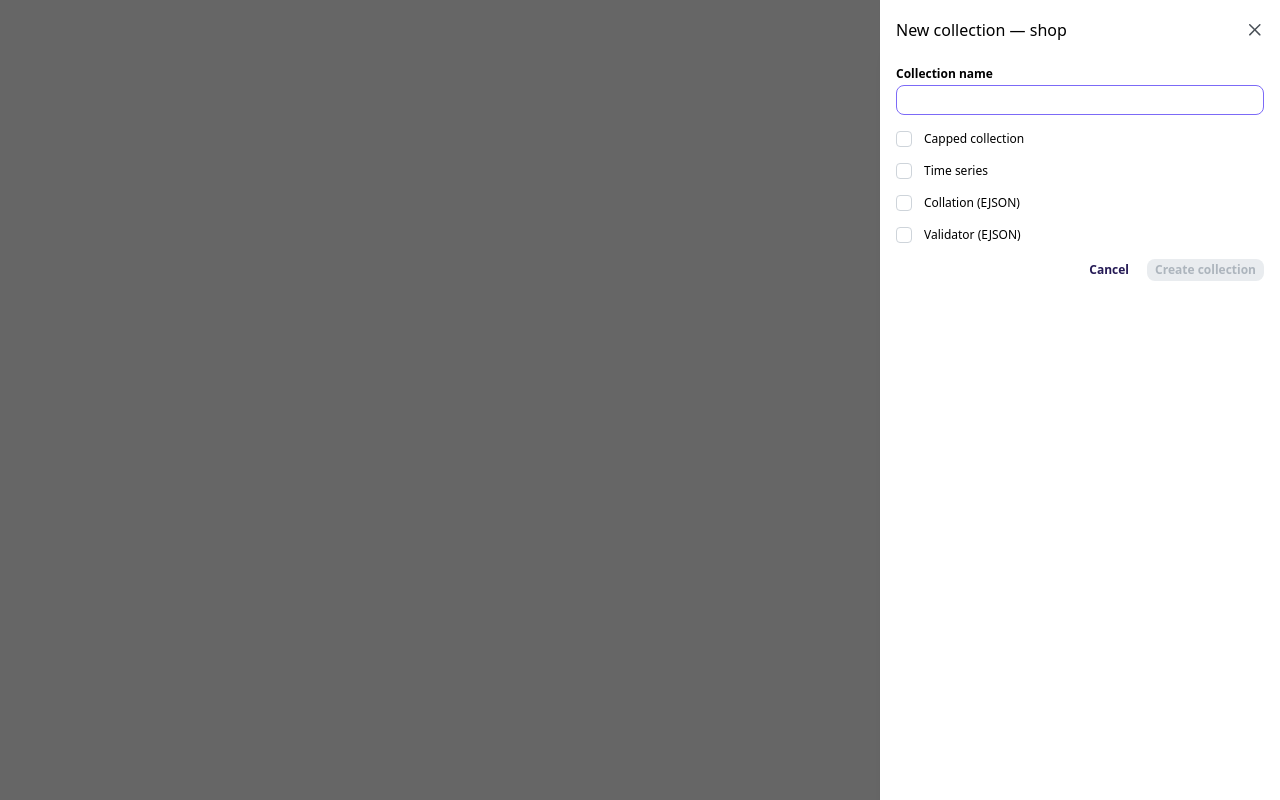
Test: CreateCollectionDrawer — unsaved-changes guard (X15 T4) › Escape with a dirty field prompts, and Cancel leaves the typed text intact
Type "orders" into the field labelled "Collection name" at (1080, 100), box [896, 85, 1264, 115]
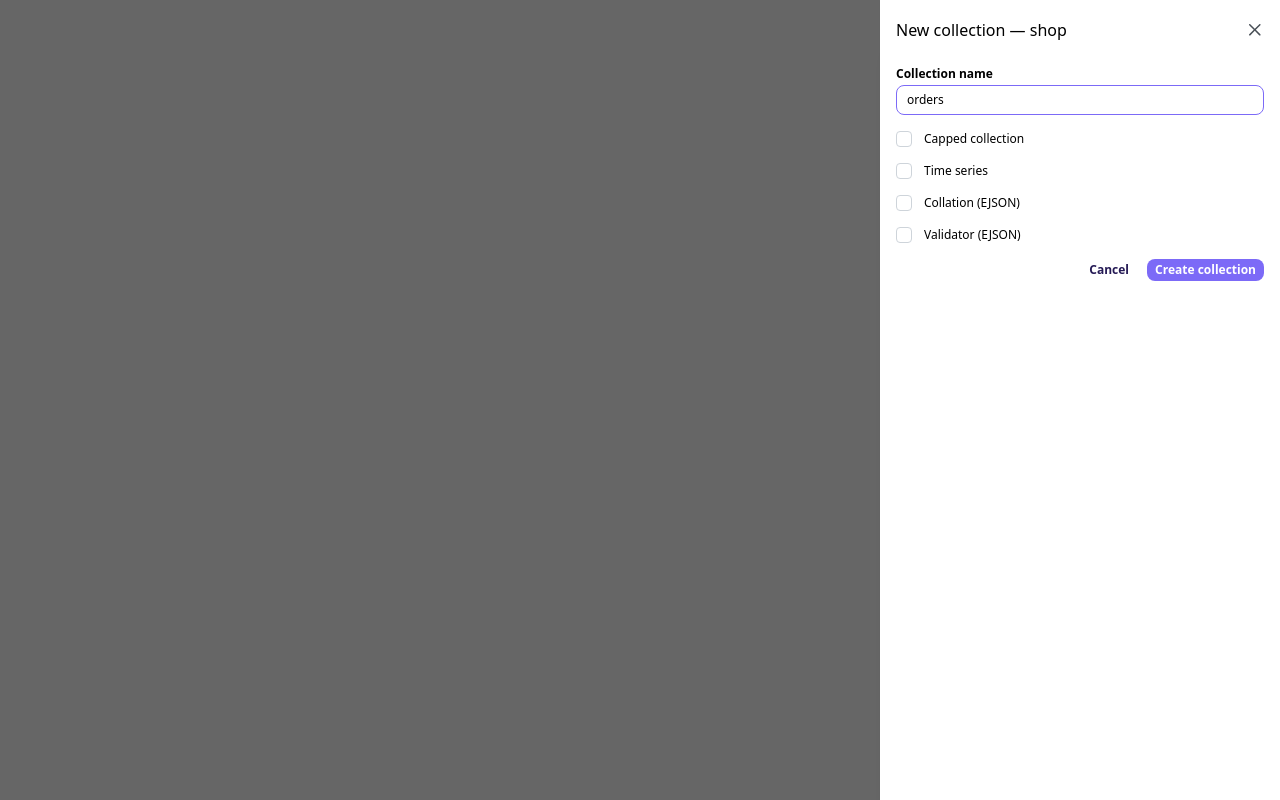
Press Escape
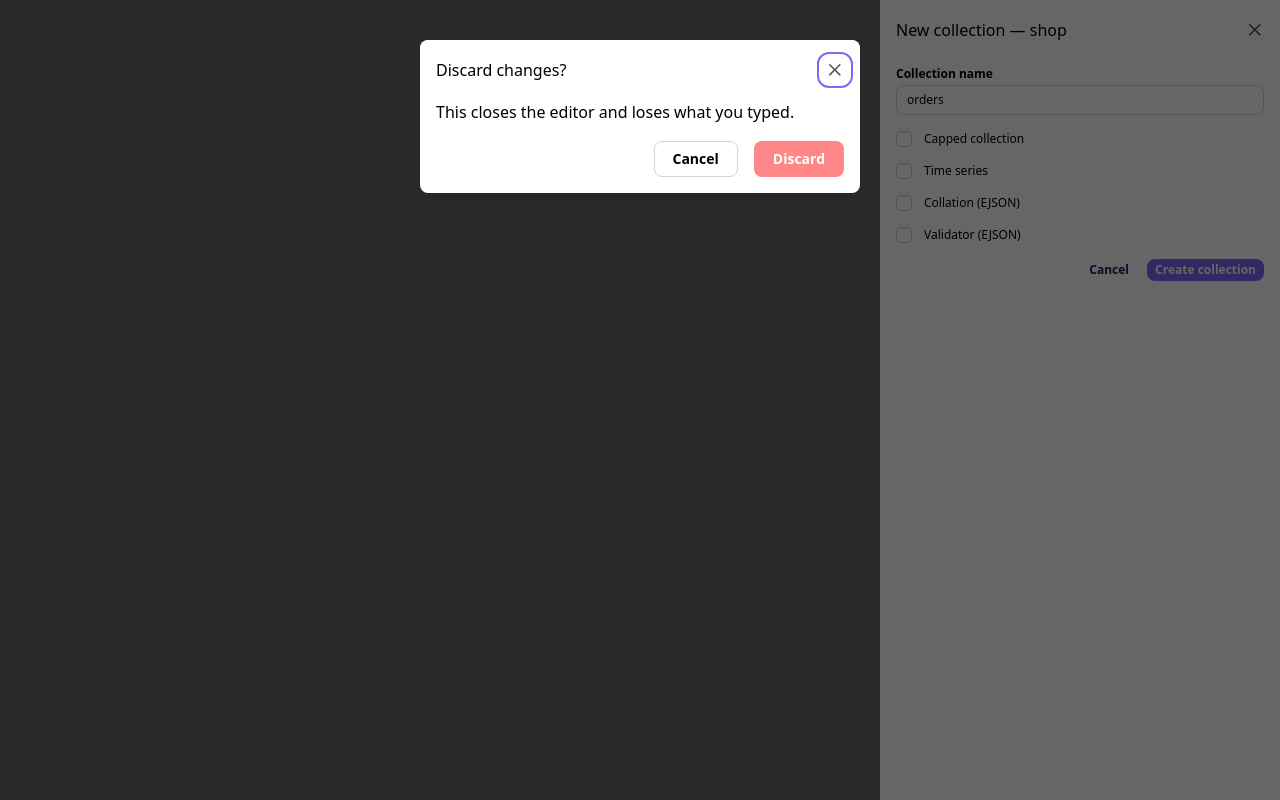
Click the button "Cancel" at (696, 159), box [654, 141, 738, 177]
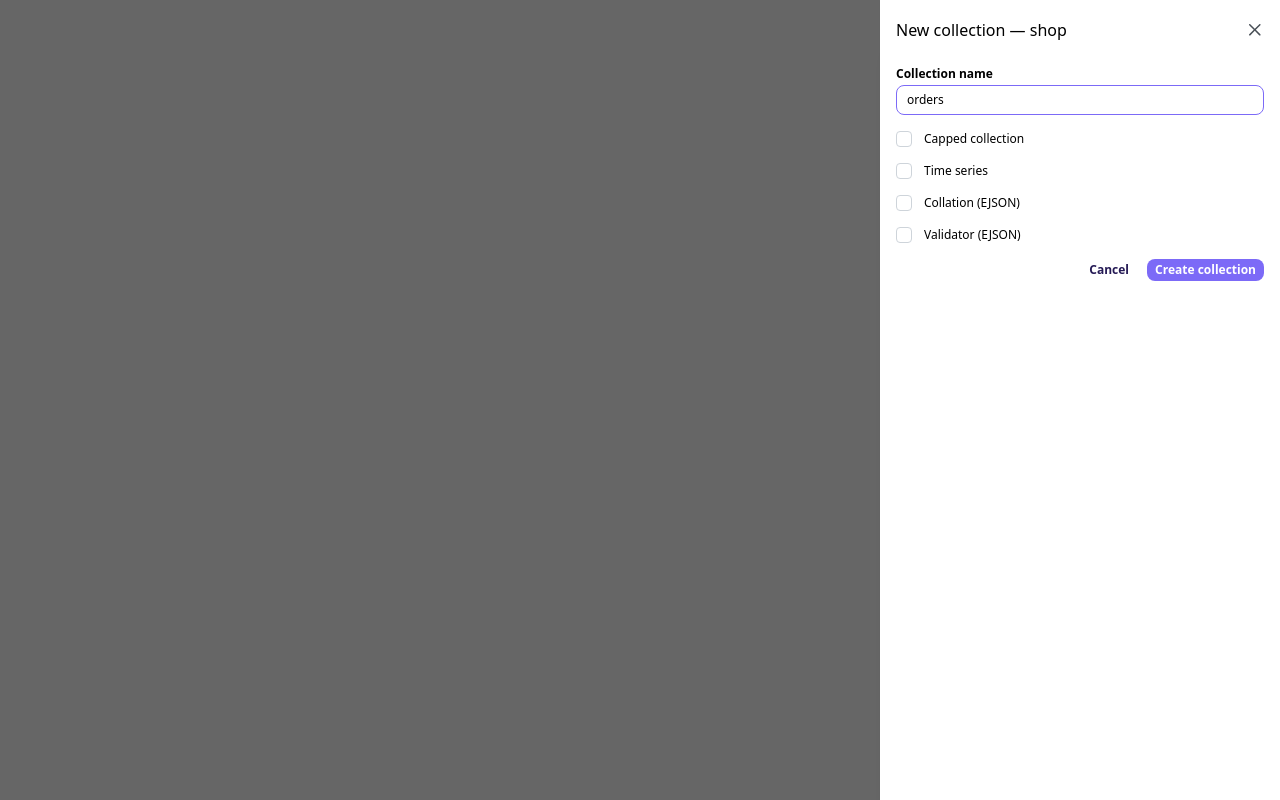
Now the heading "Discard changes?" is gone
